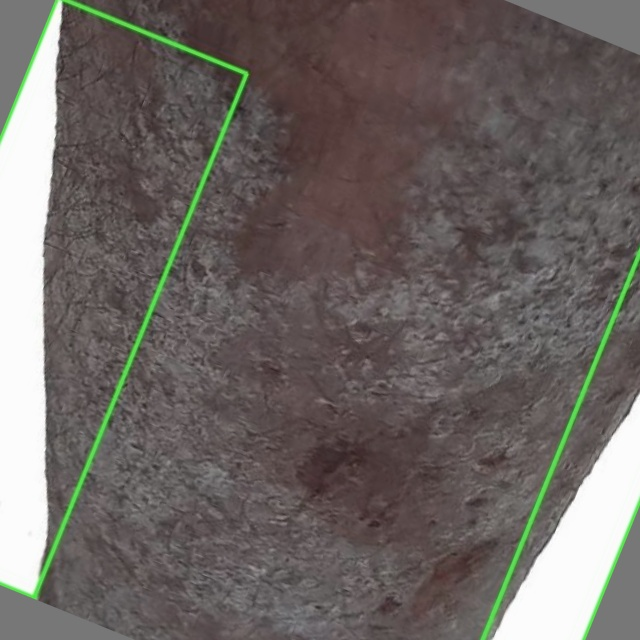Contact Dermatitis: (0, 0, 247, 597)
